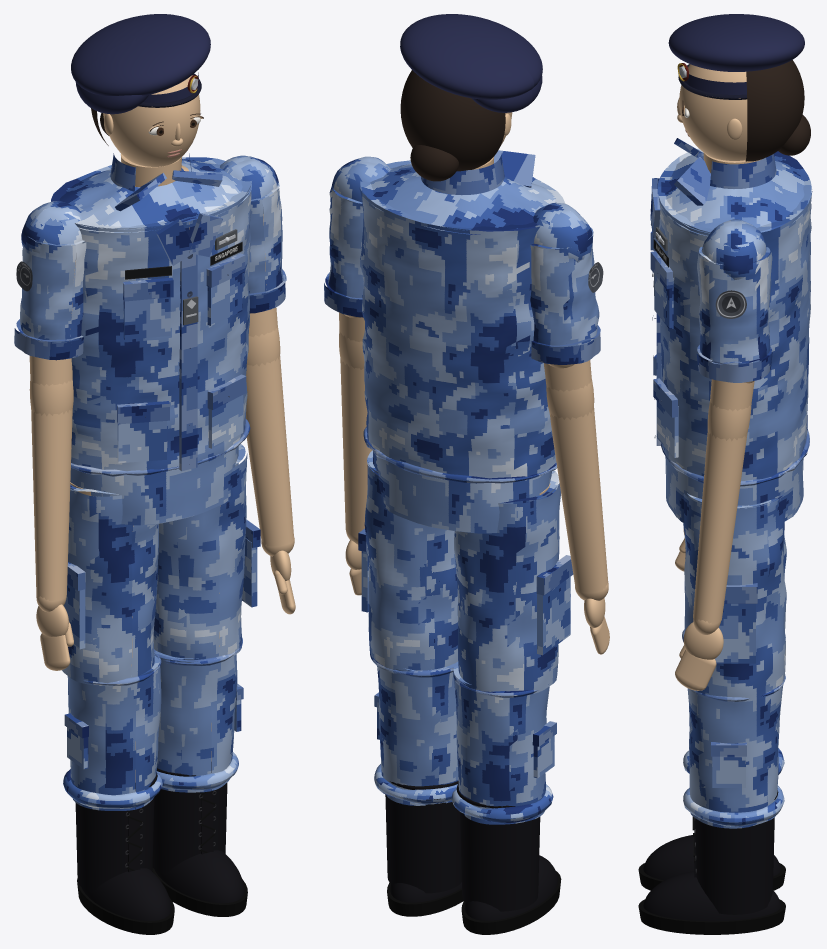
The model's file is rsaf_no4_female.glb.
3 renders of one model, left to right at view 1: azimuth 30°, elevation 25°; view 2: azimuth 150°, elevation 25°; view 3: azimuth 270°, elevation 25°, orthographic.
Visible parts, largest first — view 1: shirt_body, trouser_thigh_left, trouser_thigh_right, trouser_shin_left, beret_crown, trouser_shin_right, forearm_left, forearm_right, trouser_seat, shoulder_yoke, sleeve_left, boot_shaft_left (+38 smaller); view 2: shirt_body, trouser_thigh_left, trouser_thigh_right, trouser_shin_left, beret_crown, trouser_shin_right, forearm_left, trouser_seat, shoulder_yoke, boot_shaft_left, boot_shaft_right, hair_shell (+23 smaller); view 3: shirt_body, trouser_thigh_right, trouser_shin_right, forearm_right, boot_shaft_right, beret_crown, sleeve_right, shoulder_yoke, hair_shell, head, trouser_seat, boot_foot_right (+25 smaller).
Part boxes in pixels (<box>): shirt_body: <box>51,157,251,474</box>; trouser_thigh_left: <box>62,484,158,686</box>; trouser_thigh_right: <box>153,444,247,663</box>; trouser_shin_left: <box>67,649,161,810</box>; beret_crown: <box>71,14,210,95</box>; trouser_shin_right: <box>154,651,237,792</box>; forearm_left: <box>29,356,72,600</box>; forearm_right: <box>246,307,293,546</box>; trouser_seat: <box>70,446,238,525</box>; shoulder_yoke: <box>59,159,251,232</box>; sleeve_left: <box>20,235,86,343</box>; boot_shaft_left: <box>75,783,154,892</box>; shirt_body: <box>359,160,565,481</box>; trouser_thigh_left: <box>454,470,560,696</box>; trouser_thigh_right: <box>364,450,458,673</box>; trouser_shin_left: <box>453,662,549,824</box>; beret_crown: <box>400,14,542,99</box>; trouser_shin_right: <box>377,662,458,805</box>; forearm_left: <box>544,360,608,592</box>; trouser_seat: <box>373,451,551,533</box>; shoulder_yoke: <box>360,163,555,234</box>; boot_shaft_left: <box>460,812,540,911</box>; boot_shaft_right: <box>385,794,461,893</box>; hair_shell: <box>400,70,505,171</box>; shirt_body: <box>657,148,812,484</box>; trouser_thigh_right: <box>683,493,786,701</box>; trouser_shin_right: <box>687,686,782,828</box>; forearm_right: <box>693,379,754,624</box>; boot_shaft_right: <box>695,817,774,914</box>; beret_crown: <box>668,14,804,71</box>; sleeve_right: <box>697,247,772,364</box>; shoulder_yoke: <box>658,154,811,236</box>; hair_shell: <box>745,60,804,161</box>; head: <box>679,64,747,160</box>; trouser_seat: <box>665,456,803,522</box>; boot_foot_right: <box>643,871,781,921</box>.
Bounding box in the file's own units: 0.5528 × 1.73 × 0.3113.
Materials: 24 (6 with a texture image).
